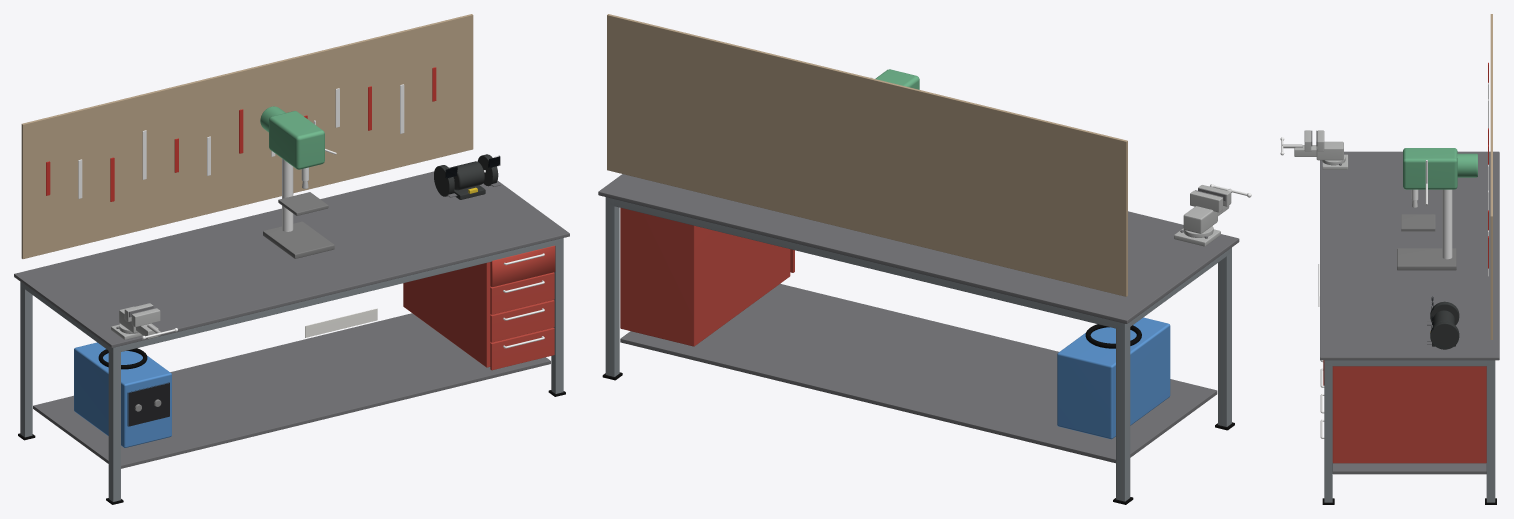
File: industrial.workshop.repair_workshop.glb
3 renders of one model, left to right at view 1: azimuth 30°, elevation 25°; view 2: azimuth 150°, elevation 25°; view 3: azimuth 270°, elevation 25°, orthographic. The views are drawn at different scales.
Parts seen in each view (by area): view 1: main__galv_777, main__paint_ca8, main__paint_c44, main__paint_889, main__paint_59c, main__paint_6b8, main__chrome_eee, main__steel_888, main__paint_333, main__paint_222, main__galv_bbb, main__paint_c33 (+1 smaller); view 2: main__paint_ca8, main__galv_777, main__paint_c44, main__paint_889, main__paint_59c, main__galv_bbb; view 3: main__galv_777, main__paint_c44, main__paint_889, main__paint_6b8, main__steel_888, main__chrome_eee, main__galv_bbb, main__paint_333, main__paint_ca8.
Part boxes in pixels (bbox=[...]): main__galv_777: bbox=[14, 167, 569, 468]; main__paint_ca8: bbox=[21, 14, 473, 258]; main__paint_c44: bbox=[403, 245, 555, 370]; main__paint_889: bbox=[20, 238, 563, 501]; main__paint_59c: bbox=[74, 342, 171, 447]; main__paint_6b8: bbox=[260, 106, 324, 169]; main__chrome_eee: bbox=[78, 84, 544, 348]; main__steel_888: bbox=[263, 192, 334, 258]; main__paint_333: bbox=[434, 154, 498, 199]; main__paint_222: bbox=[127, 382, 169, 426]; main__galv_bbb: bbox=[111, 303, 160, 339]; main__paint_c33: bbox=[46, 67, 436, 201]; main__paint_ca8: bbox=[607, 14, 1127, 296]; main__galv_777: bbox=[598, 174, 1239, 463]; main__paint_c44: bbox=[620, 207, 794, 346]; main__paint_889: bbox=[605, 197, 1231, 501]; main__paint_59c: bbox=[1057, 317, 1170, 439]; main__galv_bbb: bbox=[1174, 185, 1231, 246]; main__galv_777: bbox=[1320, 151, 1499, 474]; main__paint_c44: bbox=[1323, 360, 1486, 463]; main__paint_889: bbox=[1324, 360, 1495, 502]; main__paint_6b8: bbox=[1403, 148, 1477, 189]; main__steel_888: bbox=[1397, 214, 1456, 270]; main__chrome_eee: bbox=[1280, 82, 1488, 438]; main__galv_bbb: bbox=[1294, 130, 1348, 169]; main__paint_333: bbox=[1430, 301, 1459, 349]; main__paint_ca8: bbox=[1490, 14, 1492, 339].
Bounding box in the file's own units: 2.85 × 1.86 × 1.28.
